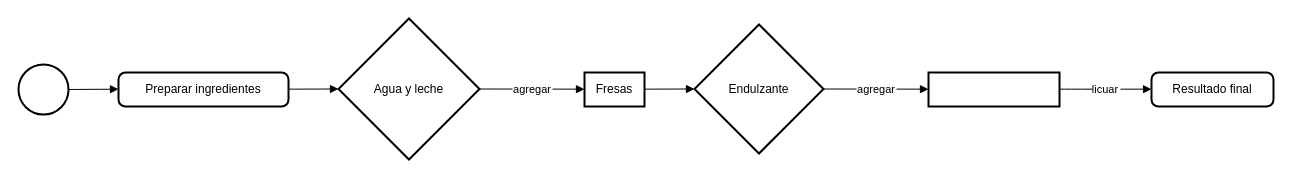
Image size: 1291x177. Some labels were removed from this diagram. The box of each missing label's shape, as (x1, y1, x2, y2) in pixels:
Cubitos de hielo: (927, 71, 1060, 107)
inicio: (17, 63, 69, 115)
